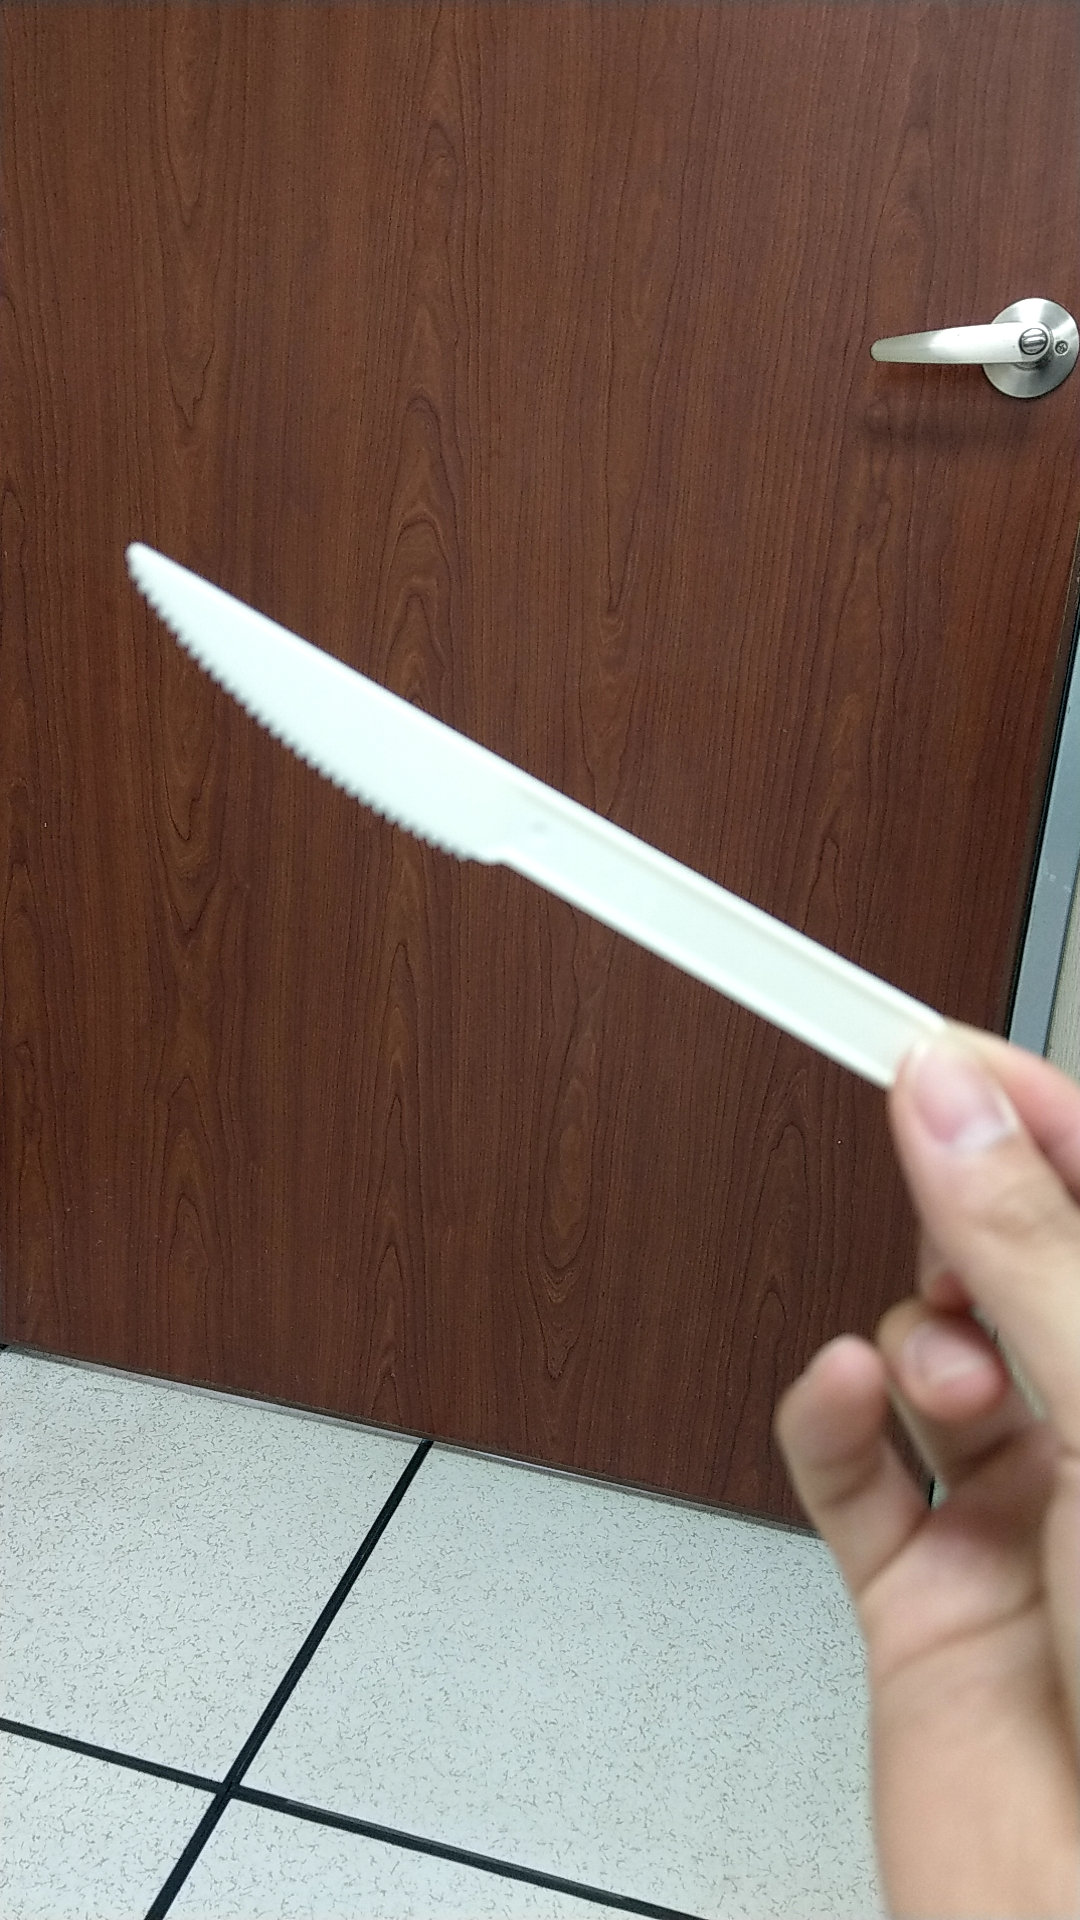knife: (83, 500, 915, 1072)
